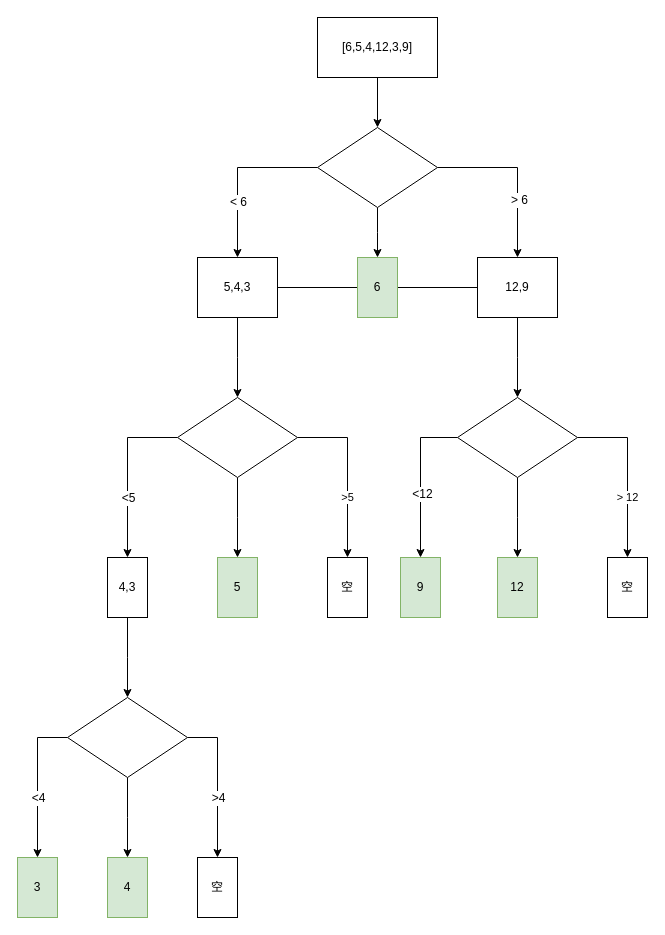
The diagram is 665 pixels wide and 935 high, and some of its shapes have lost their labels. The centre of each missing label's shape, as x and y in pixels:
"pivot = 12" belongs at point (517, 437).
"pivot = 4" belongs at point (127, 737).
"pivot = 5" belongs at point (237, 437).
"pivot = 6" belongs at point (377, 167).
